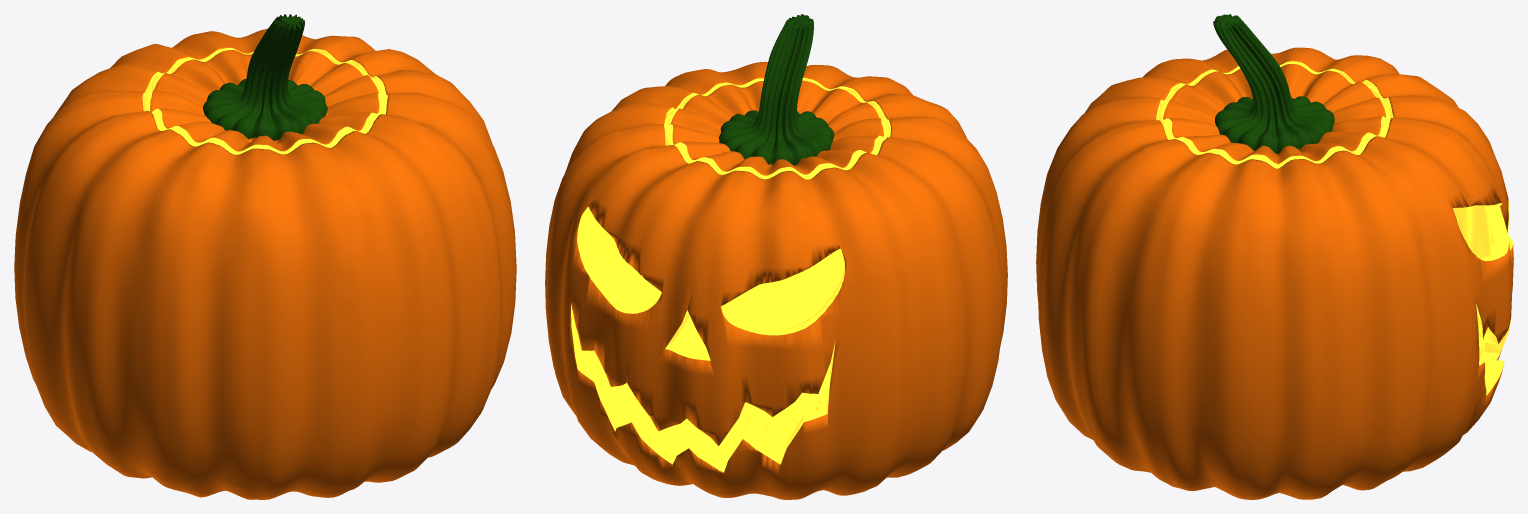
Rendered from Bad Jack.fbx.
3 renders of one model, left to right at view 1: azimuth 30°, elevation 25°; view 2: azimuth 150°, elevation 25°; view 3: azimuth 270°, elevation 25°, orthographic. The views are drawn at different scales.
Parts seen in each view (by area): view 1: Connect, Top; view 2: Connect, Top; view 3: Connect, Top.
Boxes of the visible parts, <box> form: Connect: <box>14,28,516,499</box>; Top: <box>143,14,386,154</box>; Connect: <box>545,61,1007,499</box>; Top: <box>664,14,889,179</box>; Connect: <box>1036,47,1513,499</box>; Top: <box>1158,14,1390,168</box>.
Size of the model in its own units: 390 by 377 by 391.
